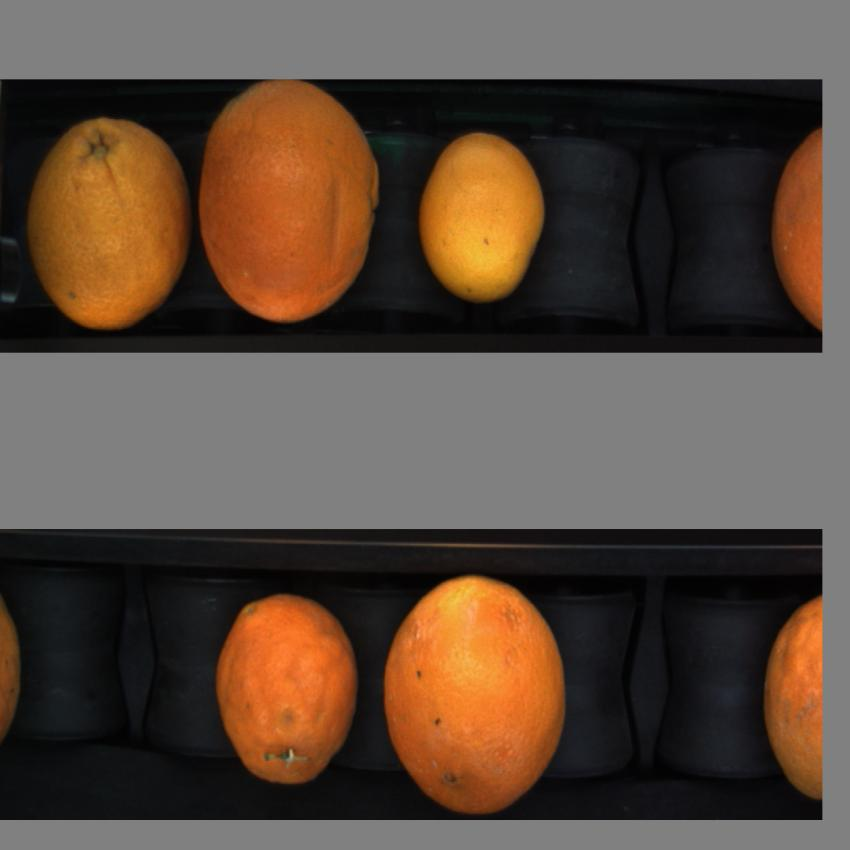Buen estado: (414, 126, 552, 305)
Mal estado: (380, 566, 574, 811), (198, 84, 384, 320), (26, 119, 193, 328), (206, 582, 366, 792), (756, 592, 822, 805), (763, 120, 824, 331)
